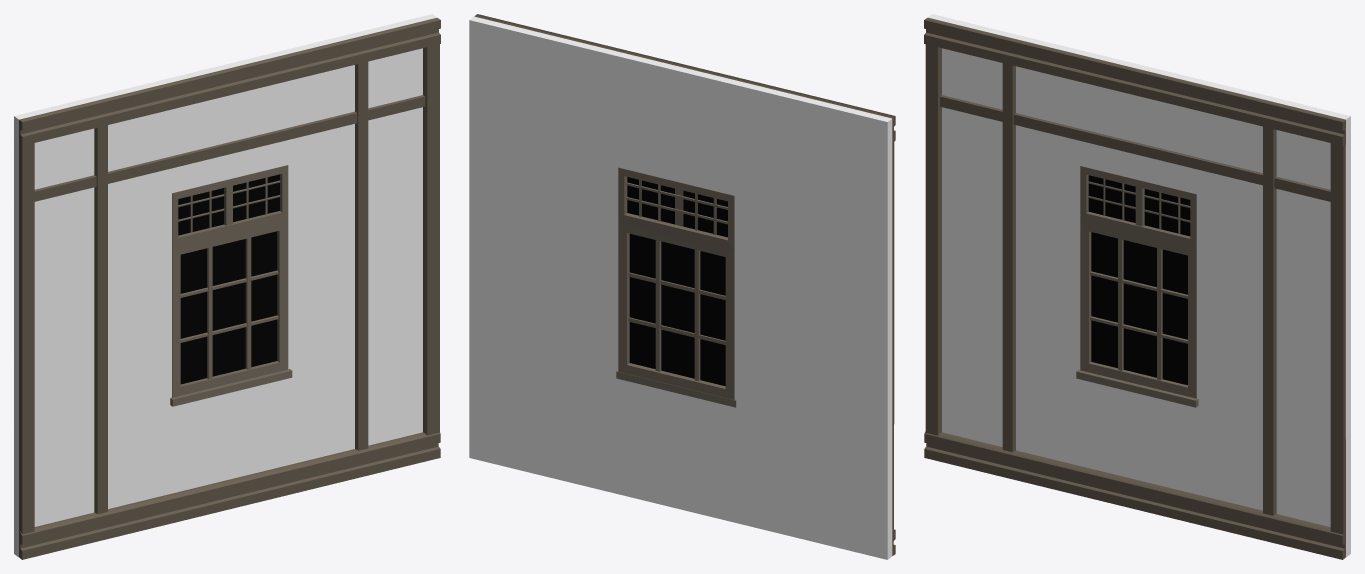
The model's file is WINDOW_03_1.glb.
3 renders of one model, left to right at view 1: azimuth 30°, elevation 25°; view 2: azimuth 150°, elevation 25°; view 3: azimuth 330°, elevation 25°, orthographic.
Parts seen in each view (by area): view 1: WINDOW_03_1; view 2: WINDOW_03_1; view 3: WINDOW_03_1.
Part boxes in pixels (bbox=[...]): WINDOW_03_1: bbox=[14, 14, 440, 559]; WINDOW_03_1: bbox=[469, 14, 895, 559]; WINDOW_03_1: bbox=[924, 14, 1350, 559].
Bounding box in the file's own units: 3 × 3 × 0.1068.
1 material, 1 textured.
